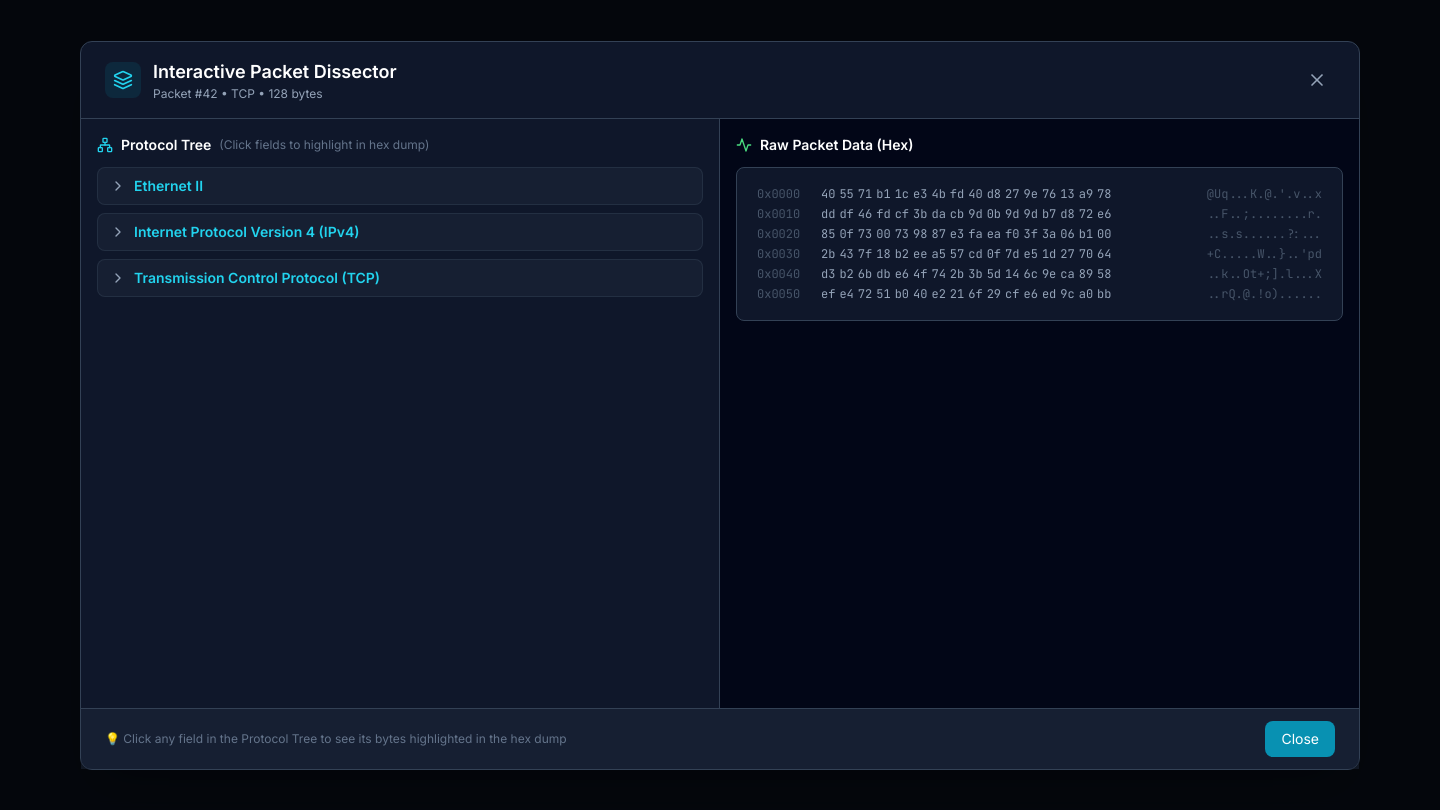
Test: PacketDissector › renders fields when layer is manually expanded
Click the button "Internet Protocol Version 4 (IPv4)": [247, 231] box [98,214,702,250]
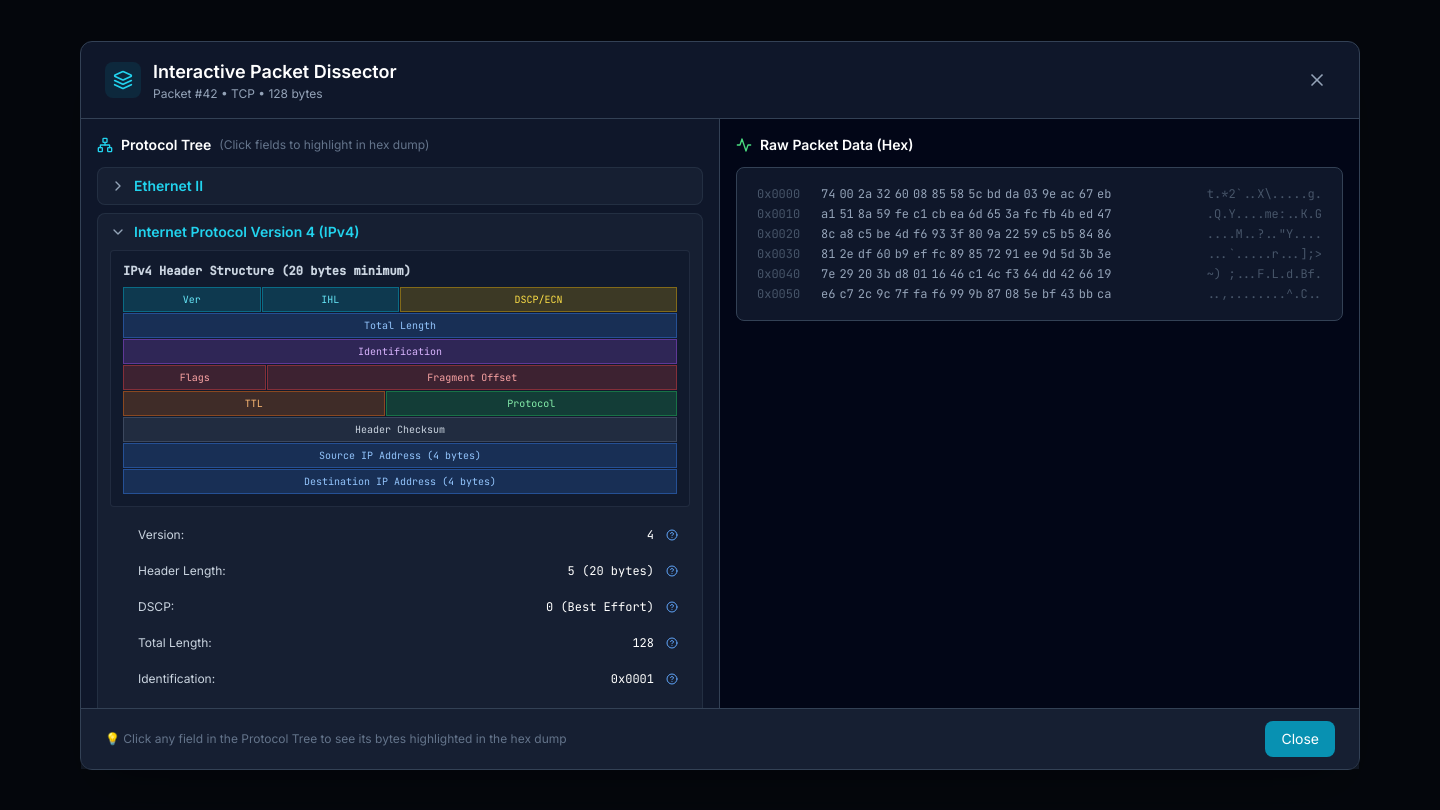
Now the text "Source IP" is shown, box [319,448,481,462]
Now the text "Destination IP" is shown, box [304,474,496,488]
